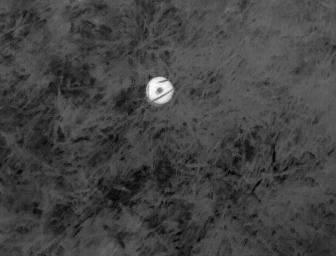landmine: (146, 76, 175, 105)
